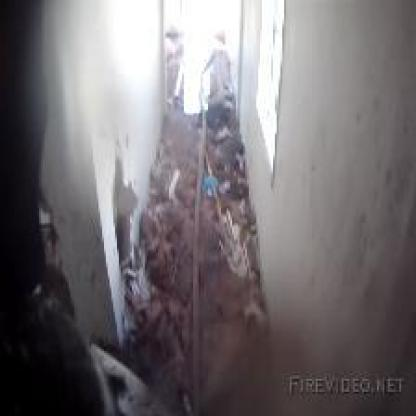other: (247, 8, 289, 178)
